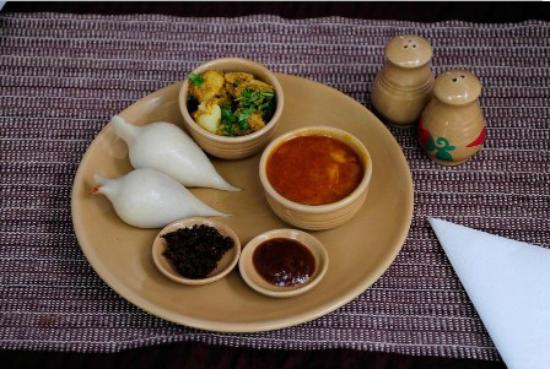yomari: (89, 164, 232, 224), (109, 111, 228, 174)
